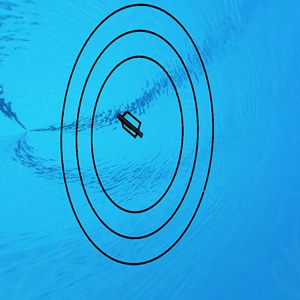circle: (46, 2, 218, 273)
submarine: (116, 112, 147, 140)
